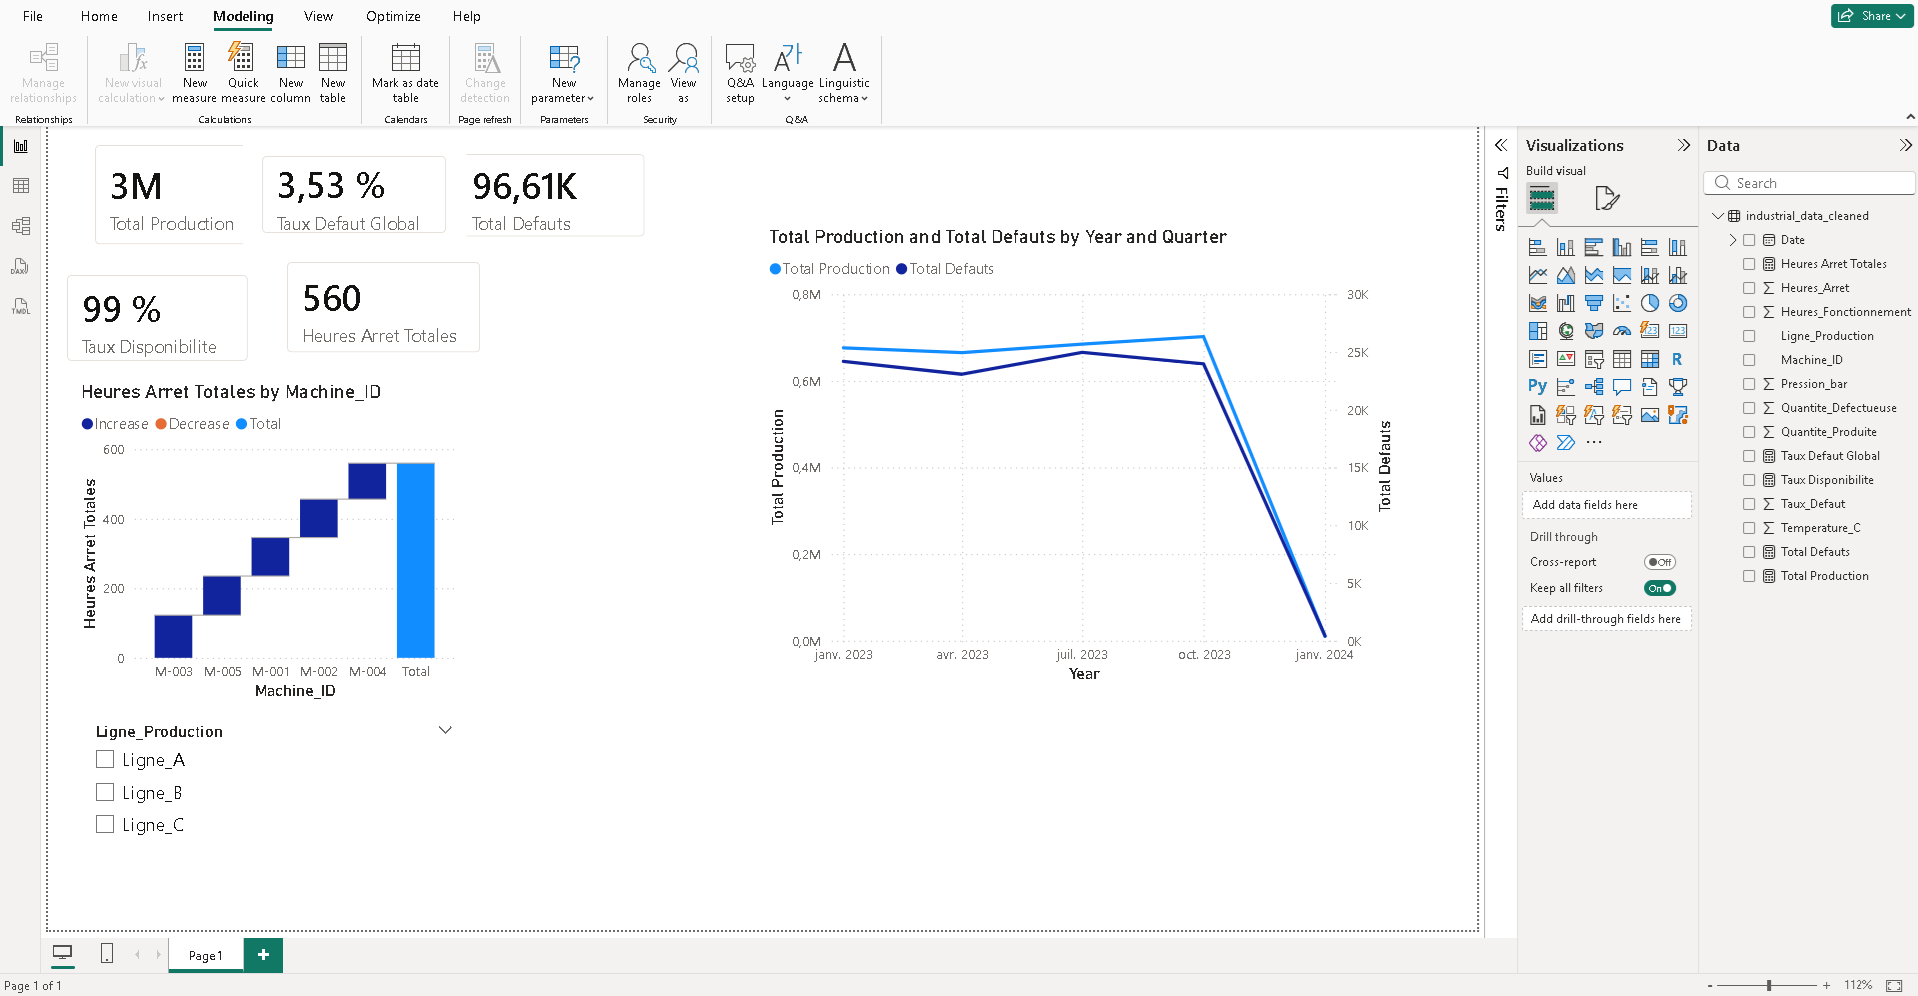

What the dashboard file says about the page in this screenshot:
{"tool":"powerbi","page":{"name":"Page 1","canvas":[1280,720],"ordinal":0},"visuals":[{"type":"cardVisual","fields":{"Data":["industrial_data_cleaned.Total Production"]},"box":[25.1,0,185.7,123.5],"z":0},{"type":"cardVisual","fields":{"Data":["industrial_data_cleaned.Taux Disponibilite"]},"box":[0,116.5,196.8,111.4],"z":1},{"type":"cardVisual","fields":{"Data":["industrial_data_cleaned.Total Defauts"]},"box":[349.4,8,202.8,108.4],"z":2},{"type":"cardVisual","fields":{"Data":["industrial_data_cleaned.Taux Defaut Global"]},"box":[174.7,10,199.8,103.4],"z":3},{"type":"cardVisual","fields":{"Data":["industrial_data_cleaned.Heures Arret Totales"]},"box":[196.8,104.4,207.8,115.5],"z":4},{"type":"lineChart","fields":{"Category":["industrial_data_cleaned.Date.Variation.Date Hierarchy.Year","industrial_data_cleaned.Date.Variation.Date Hierarchy.Quarter","industrial_data_cleaned.Date.Variation.Date Hierarchy.Month","industrial_data_cleaned.Date.Variation.Date Hierarchy.Day"],"Y":["industrial_data_cleaned.Total Production"],"Y2":["industrial_data_cleaned.Total Defauts"]},"box":[640.5,88.3,568.2,414.6],"z":5},{"type":"waterfallChart","fields":{"Category":["industrial_data_cleaned.Machine_ID"],"Y":["industrial_data_cleaned.Heures Arret Totales"]},"box":[24.1,227.9,345.3,291.1],"z":6},{"type":"slicer","fields":{"Values":["industrial_data_cleaned.Ligne_Production"]},"box":[29.1,529.1,345.3,190.7],"z":7}]}

Visuals, with their boxes on the page's 1280x720 design canvas (x1, y1, x2, y2). These are canvas units, not pixel positions in the 1918x996 screenshot, which may show the page scaled, cropped or inside an application window:
cardVisual - industrial_data_cleaned.Total Production: Rect(25, 0, 211, 124)
cardVisual - industrial_data_cleaned.Taux Disponibilite: Rect(0, 116, 197, 228)
cardVisual - industrial_data_cleaned.Total Defauts: Rect(349, 8, 552, 116)
cardVisual - industrial_data_cleaned.Taux Defaut Global: Rect(175, 10, 374, 113)
cardVisual - industrial_data_cleaned.Heures Arret Totales: Rect(197, 104, 405, 220)
lineChart - industrial_data_cleaned.Date.Variation.Date Hierarchy.Year x industrial_data_cleaned.Date.Variation.Date Hierarchy.Quarter: Rect(640, 88, 1209, 503)
waterfallChart - industrial_data_cleaned.Machine_ID x industrial_data_cleaned.Heures Arret Totales: Rect(24, 228, 369, 519)
slicer - industrial_data_cleaned.Ligne_Production: Rect(29, 529, 374, 720)
